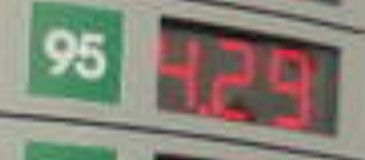digits: (262, 44, 316, 132), (154, 19, 202, 114), (209, 29, 256, 123)
